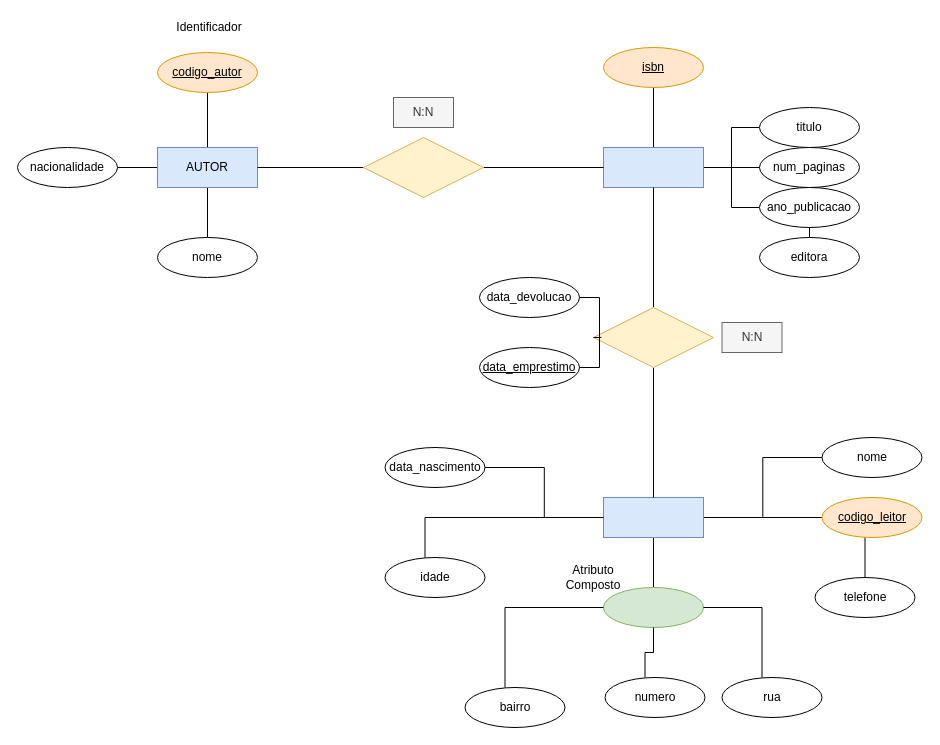
Image size: 940x745. Some labels were removed from this diagram. The shapes that lost their labels are listed below. From the top down, each one's centre as x and y in pixels, then its label:
the point at 423,167: escreve
the point at 653,167: LIVRO
the point at 653,337: empresta
the point at 653,517: LEITOR
the point at 653,607: endereco
